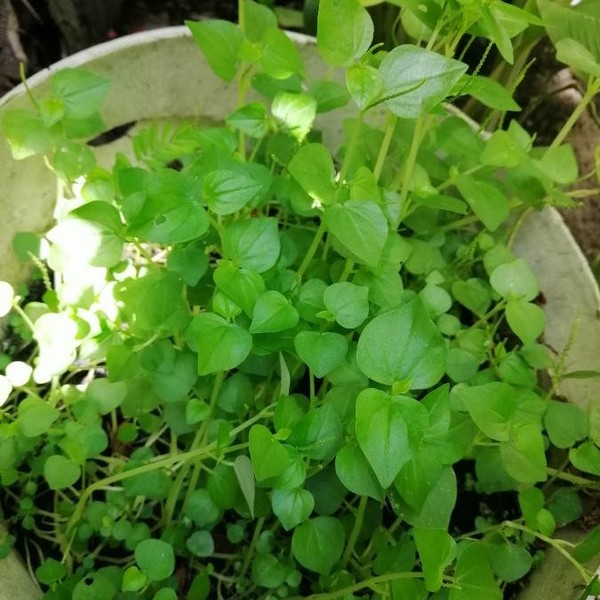obstacle: (131, 101, 508, 547)
